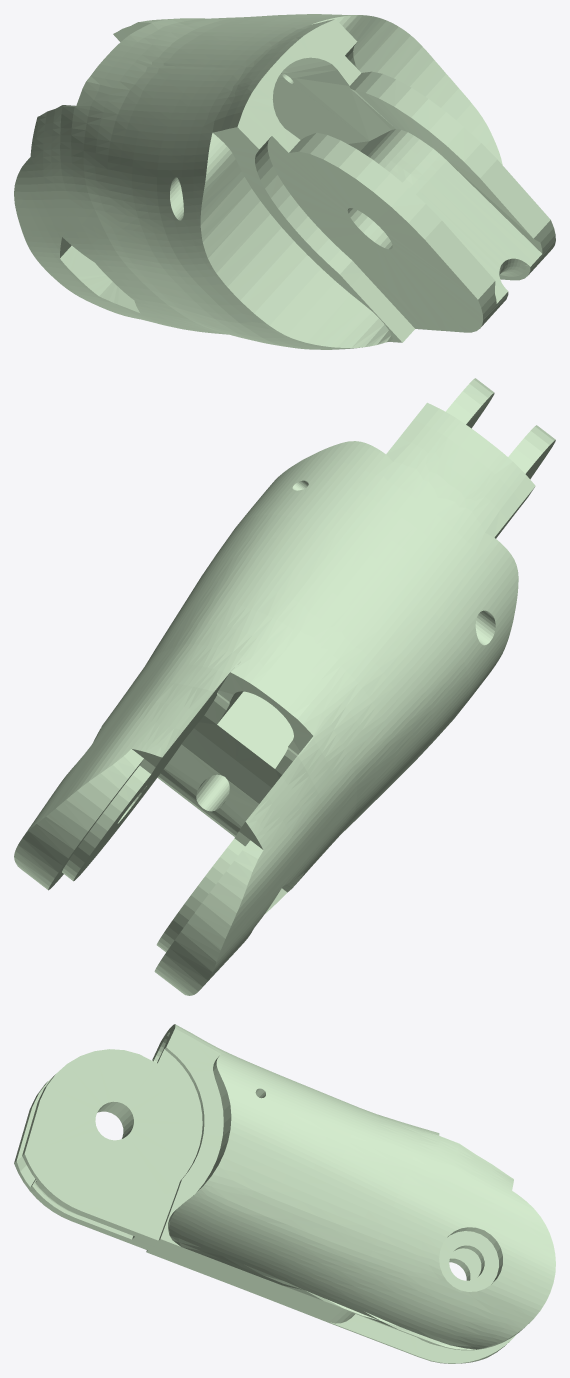
The model's file is i02_rightHand_ringFingerPhal_visual.obj.full.glb.
3 views of the same model, one above another, from view 1: azimuth 30°, elevation 25°; view 2: azimuth 150°, elevation 25°; view 3: azimuth 270°, elevation 25° (orthographic). The views are drawn at different scales.
Bounding box in the file's own units: 0.214 × 0.3231 × 0.5002.
